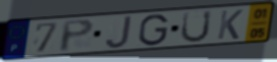7: (34, 21, 61, 54)
G: (138, 13, 170, 47)
J: (104, 15, 134, 50)
K: (216, 8, 245, 41)
P: (59, 18, 96, 53)
U: (179, 9, 214, 44)
